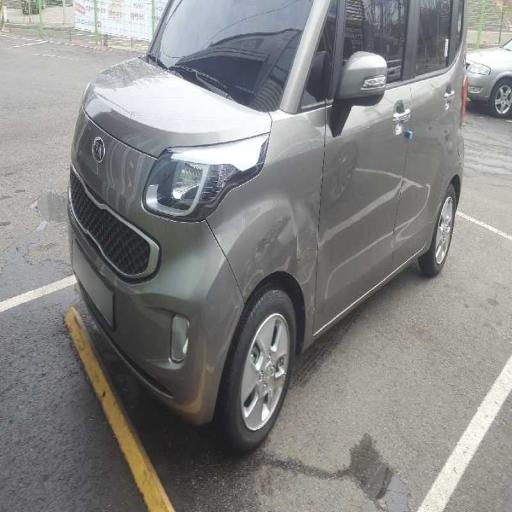dent: (218, 151, 356, 292)
scratch: (81, 93, 150, 256)
